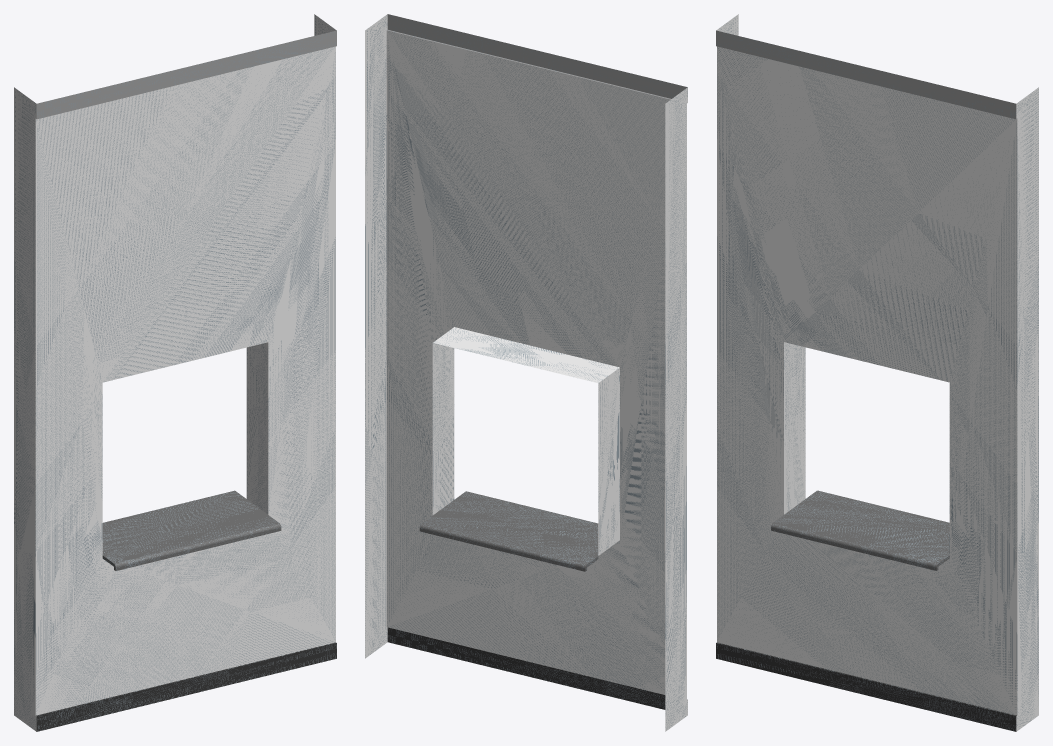
The model's file is BlockWall_Sluise_ds_plinth[200x400x025]_112x110x[100].dae.
The picture shows the model from 3 angles, left to right: view 1: azimuth 30°, elevation 25°; view 2: azimuth 150°, elevation 25°; view 3: azimuth 330°, elevation 25°; orthographic projection.
Parts seen in each view (by area): view 1: group_0 (×5); view 2: group_0 (×5); view 3: group_0 (×5).
Boxes of the visible parts, box(x1,y1,x2,y2) form: group_0 (×5): box(14, 14, 336, 731); group_0 (×5): box(365, 14, 687, 731); group_0 (×5): box(716, 14, 1038, 731).
Size of the model in its own units: 78.74 by 21.65 by 157.
